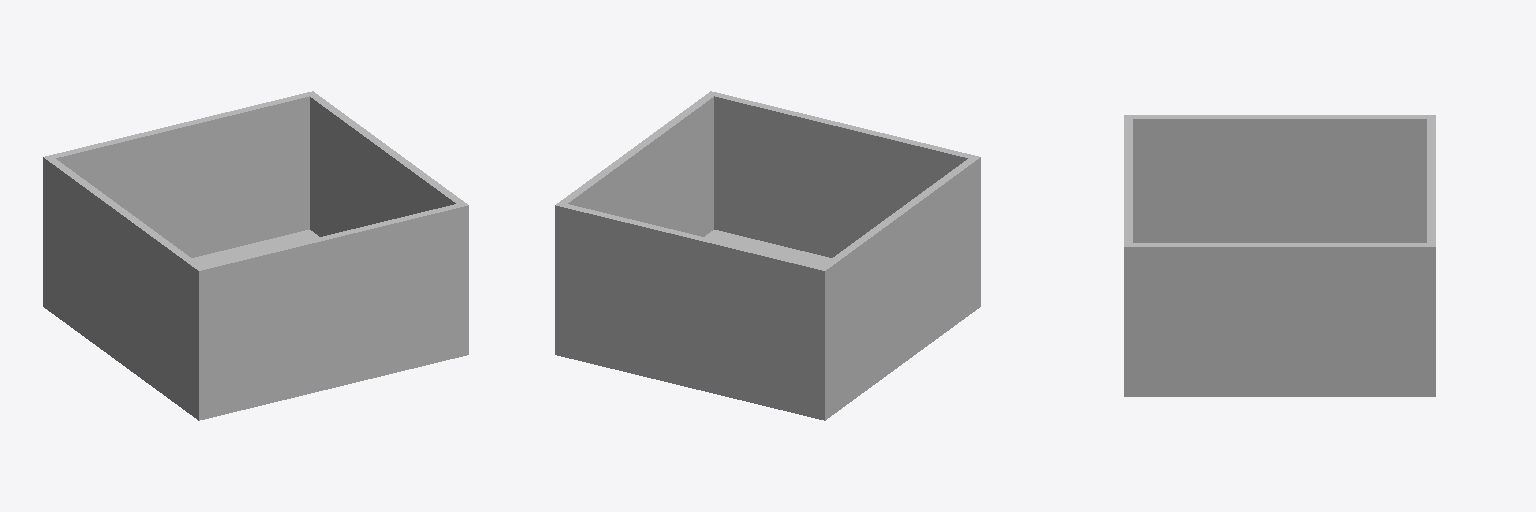
Rendered from bin-deep008.obj.
The picture shows the model from 3 angles: view 1: azimuth 30°, elevation 25°; view 2: azimuth 150°, elevation 25°; view 3: azimuth 270°, elevation 25°; orthographic projection.
Visible parts, largest first — view 1: Cube_Cube.006; view 2: Cube_Cube.006; view 3: Cube_Cube.006.
Boxes of the visible parts, box(x1,y1,x2,y2) form: Cube_Cube.006: box(43, 91, 468, 420); Cube_Cube.006: box(555, 91, 980, 420); Cube_Cube.006: box(1124, 115, 1435, 396).
Bounding box in the file's own units: 0.17 × 0.09 × 0.17.